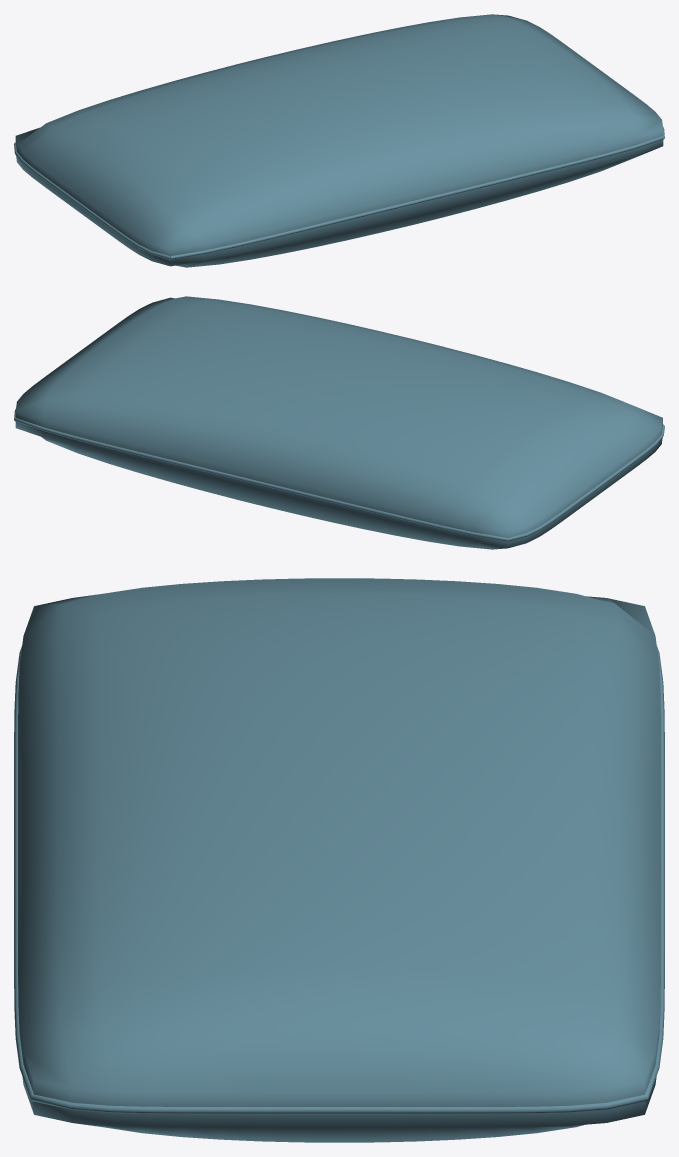
The model's file is loose-lumbar-cushion.glb.
The picture shows the model from 3 angles, top to bottom: view 1: azimuth 30°, elevation 25°; view 2: azimuth 150°, elevation 25°; view 3: azimuth 270°, elevation 25°; orthographic projection. The views are drawn at different scales.
Visible parts, largest first — view 1: catalog_surface_RealismUV; view 2: catalog_surface_RealismUV; view 3: catalog_surface_RealismUV.
Part boxes in pixels (x1=…): catalog_surface_RealismUV: x1=14, y1=14, x2=664, y2=267; catalog_surface_RealismUV: x1=14, y1=296, x2=664, y2=549; catalog_surface_RealismUV: x1=14, y1=578, x2=664, y2=1142.
Bounding box in the file's own units: 0.53 × 0.105 × 0.29.
